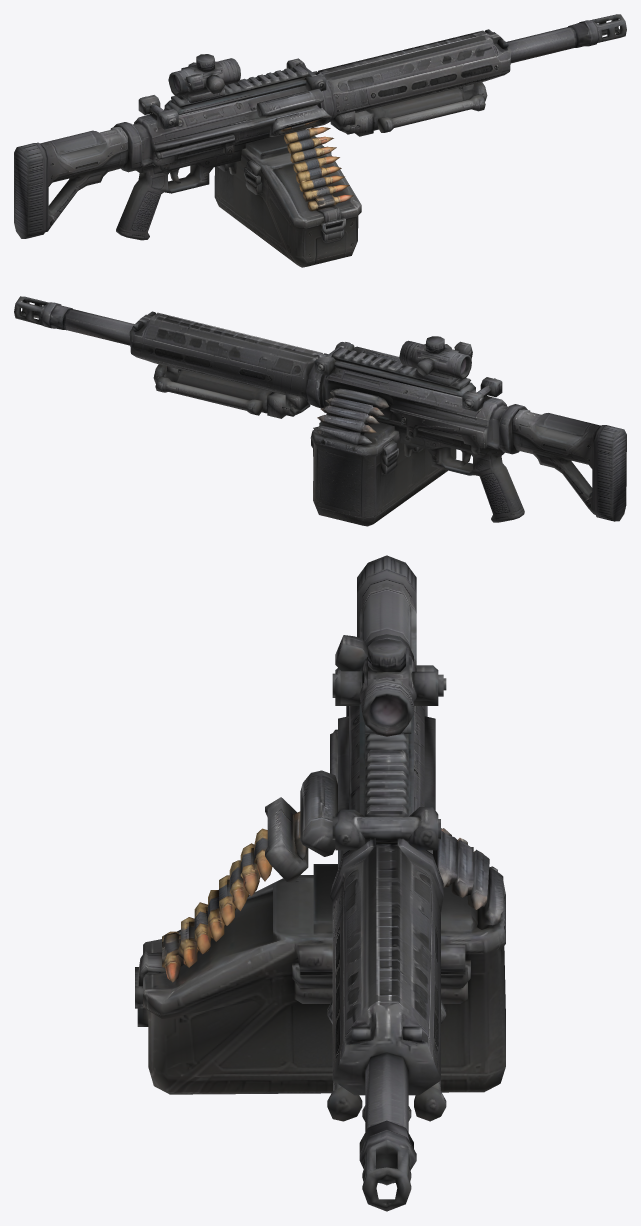
Rendered from hmg15_goliath.glb.
3 views of the same model, one above another, from view 1: azimuth 30°, elevation 25°; view 2: azimuth 150°, elevation 25°; view 3: azimuth 270°, elevation 25° (orthographic). The views are drawn at different scales.
Visible parts, largest first — view 1: hmg15_goliath; view 2: hmg15_goliath; view 3: hmg15_goliath.
Boxes of the visible parts, bbox=[...] form: hmg15_goliath: bbox=[14, 14, 626, 267]; hmg15_goliath: bbox=[14, 296, 626, 526]; hmg15_goliath: bbox=[135, 555, 505, 1211].
Bounding box in the file's own units: 1.45 × 0.4171 × 0.3887.
Materials: 1 (1 with a texture image).
